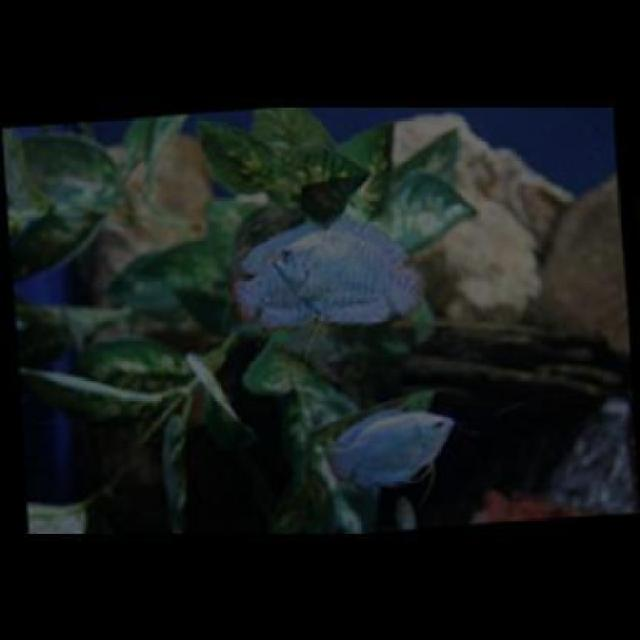Gourami: (277, 212, 421, 326), (322, 400, 456, 489)
